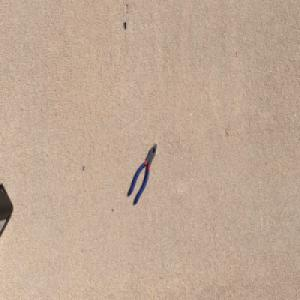Pliers: (128, 142, 157, 204)
